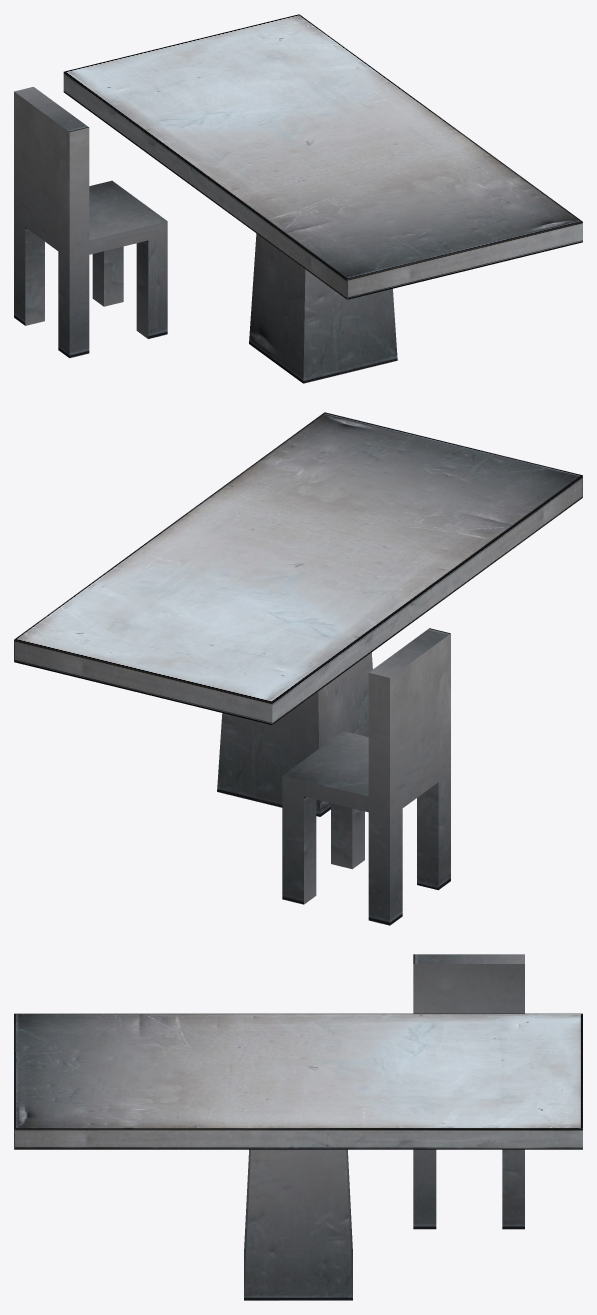
The model's file is Caffeteria.fbx.
The picture shows the model from 3 angles, top to bottom: view 1: azimuth 30°, elevation 25°; view 2: azimuth 150°, elevation 25°; view 3: azimuth 270°, elevation 25°; orthographic projection. The views are drawn at different scales.
Visible parts, largest first — view 1: Table, Chair; view 2: Table, Chair; view 3: Table, Chair.
Boxes of the visible parts, x1,y1,x2,y2 form: Table: (63,14,582,383); Chair: (14,87,167,358); Table: (14,412,582,816); Chair: (282,628,450,925); Table: (14,1013,582,1300); Chair: (413,954,524,1229).
Bounding box in the file's own units: 320 × 220 × 500.
